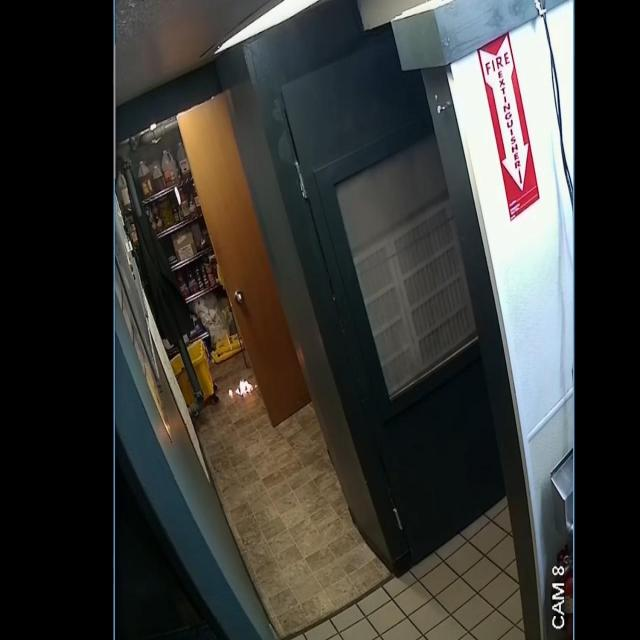fire: (228, 378, 258, 398)
